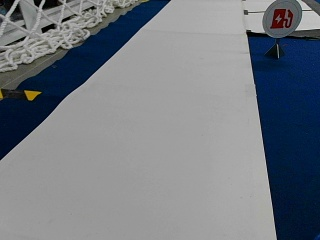battery: (261, 0, 302, 37)
